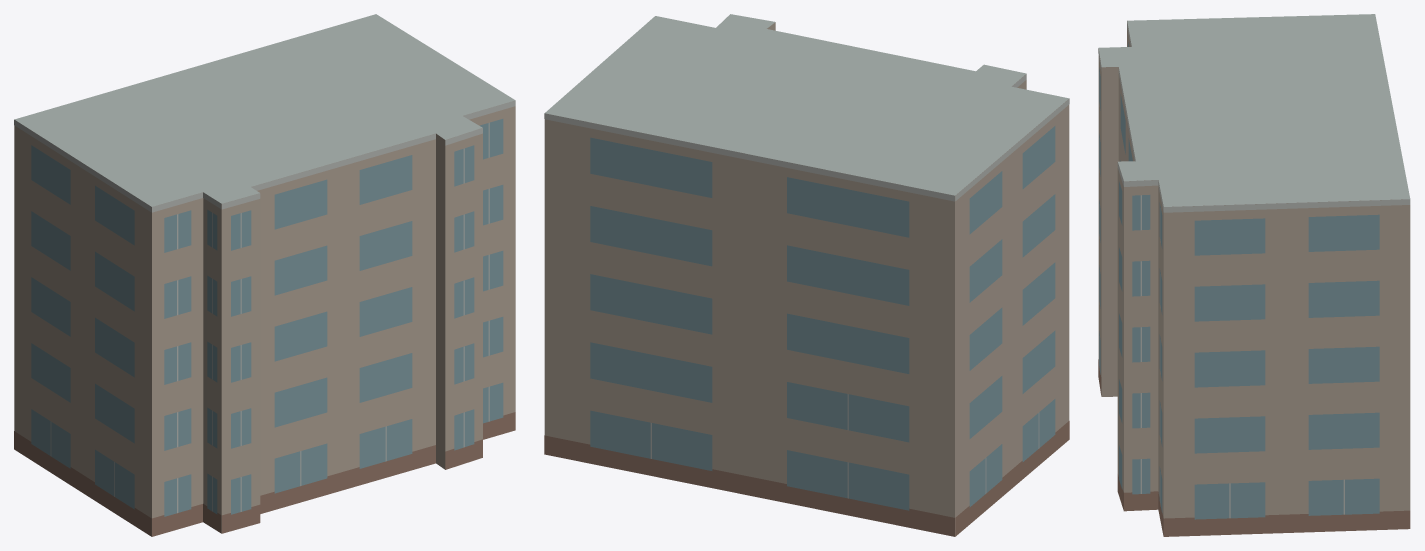
Rendered from survey-upis-32757391.glb.
3 views of the same model, side by side, from view 1: azimuth 30°, elevation 25°; view 2: azimuth 150°, elevation 25°; view 3: azimuth 270°, elevation 25° (orthographic). The views are drawn at different scales.
Parts seen in each view (by area): view 1: survey-upis-32757391.tmp; view 2: survey-upis-32757391.tmp; view 3: survey-upis-32757391.tmp.
Part boxes in pixels (<box>): survey-upis-32757391.tmp: <box>14,14,515,536</box>; survey-upis-32757391.tmp: <box>544,14,1069,536</box>; survey-upis-32757391.tmp: <box>1098,14,1410,536</box>.
Bounding box in the file's own units: 17.64 × 14.05 × 12.05.
